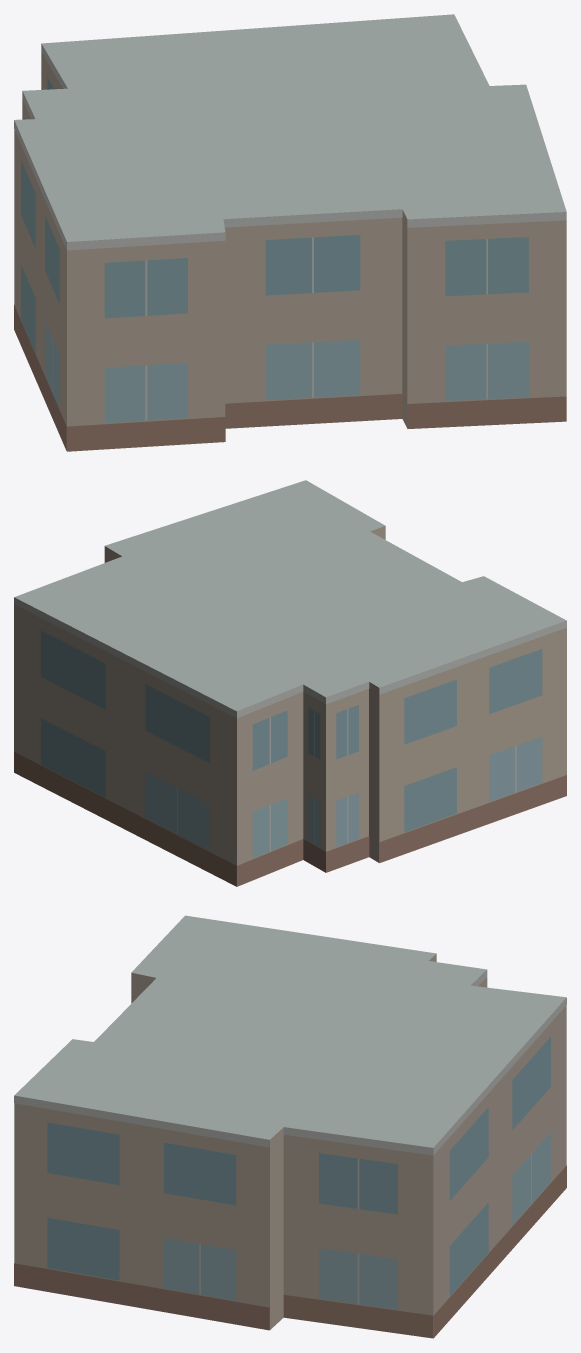
The model's file is survey-upis-32540323.glb.
3 views of the same model, one above another, from view 1: azimuth 30°, elevation 25°; view 2: azimuth 150°, elevation 25°; view 3: azimuth 270°, elevation 25° (orthographic). The views are drawn at different scales.
Parts seen in each view (by area): view 1: survey-upis-32540323.tmp; view 2: survey-upis-32540323.tmp; view 3: survey-upis-32540323.tmp.
Part boxes in pixels (left/top/right/bottom): survey-upis-32540323.tmp: left=14, top=14, right=566, bottom=451; survey-upis-32540323.tmp: left=14, top=480, right=566, bottom=886; survey-upis-32540323.tmp: left=14, top=915, right=566, bottom=1338.
Size of the model in its own units: 15.97 by 6.1 by 16.05.
